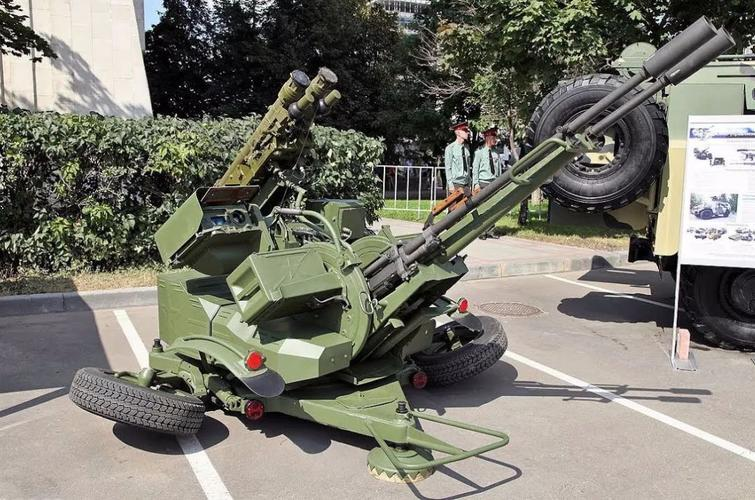MIL_SPG: (69, 18, 734, 482)
